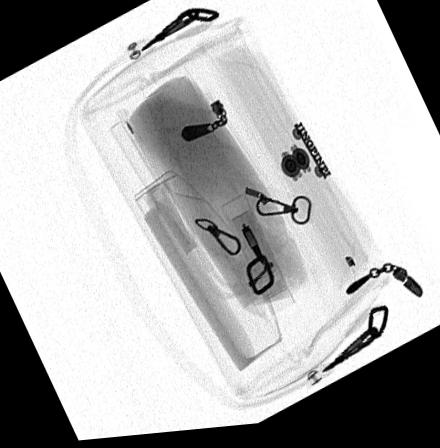Bullet: (240, 230, 265, 270)
